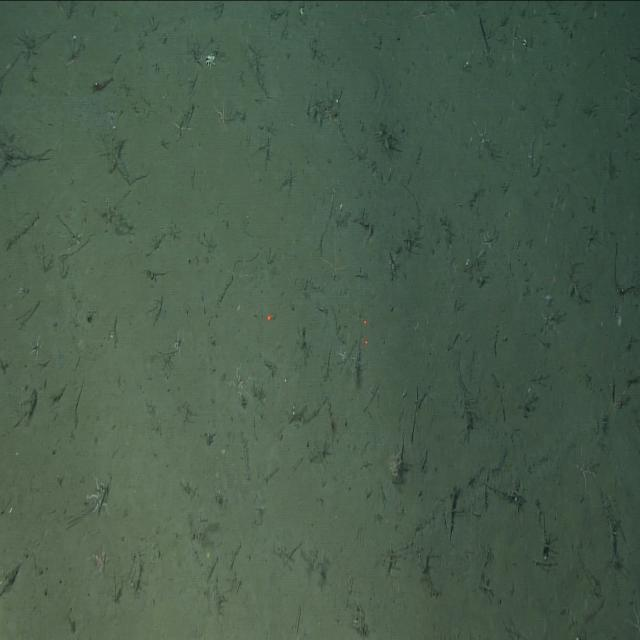Brittle Star: (319, 244, 353, 291), (227, 360, 256, 404), (87, 541, 111, 577), (624, 597, 640, 638)
Not Brittle Star: (383, 440, 407, 484), (89, 71, 115, 96)
